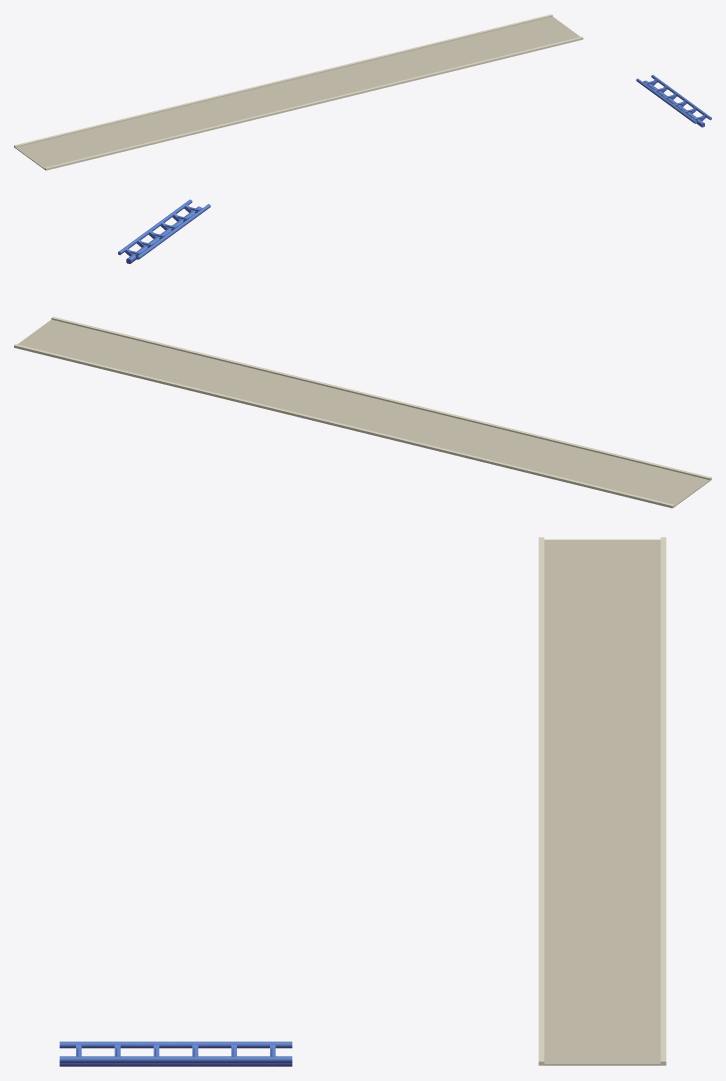
Rendered from gardens-6-5.glb.
3 views of the same model, one above another, from view 1: azimuth 30°, elevation 25°; view 2: azimuth 150°, elevation 25°; view 3: azimuth 270°, elevation 25° (orthographic). The views are drawn at different scales.
Visible parts, largest first — view 1: gardens-6-5; view 2: gardens-6-5; view 3: gardens-6-5.
Part boxes in pixels (x1,y1,x2,y2): gardens-6-5: (14,14,711,170); gardens-6-5: (14,199,711,508); gardens-6-5: (59,537,666,1066).
Size of the model in its own units: 130 by 1.8 by 62.6.
3 materials, 1 textured.
